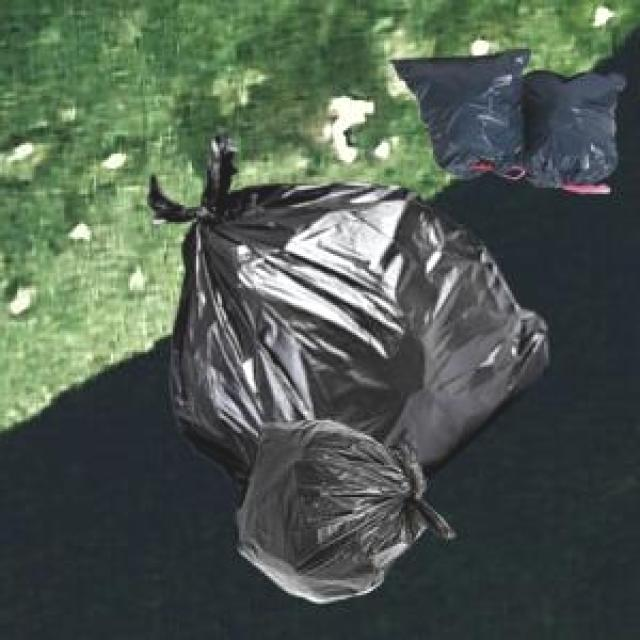Trashbag: (160, 171, 554, 467), (229, 418, 454, 609), (383, 40, 541, 182), (508, 60, 640, 196)
